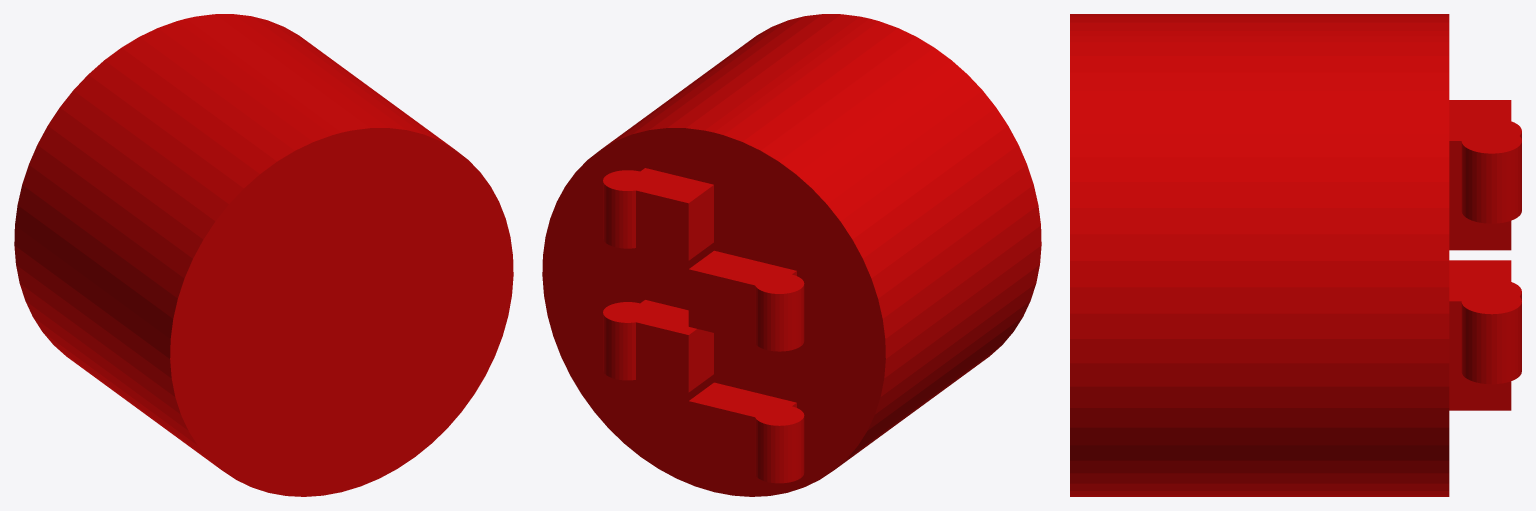
3 renders of one model, left to right at view 1: azimuth 30°, elevation 25°; view 2: azimuth 150°, elevation 25°; view 3: azimuth 270°, elevation 25°, orthographic. The views are drawn at different scales.
Visible parts, largest first — view 1: base; view 2: base; view 3: base.
Part boxes in pixels (bbox=[...]): base: bbox=[14, 14, 513, 496]; base: bbox=[542, 14, 1041, 496]; base: bbox=[1070, 14, 1521, 496].
Size of the model in its own units: 10 by 9.35 by 10.
